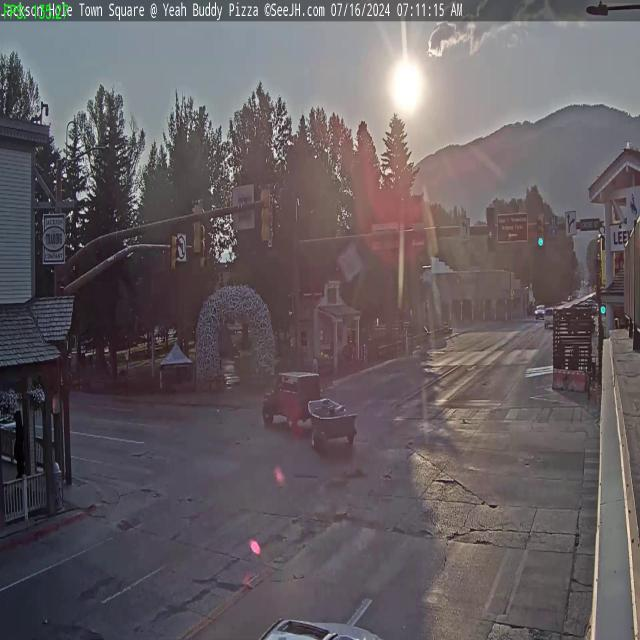suv: (263, 370, 319, 438)
traffic light: (260, 184, 274, 246), (190, 200, 204, 256), (169, 234, 180, 276), (486, 206, 496, 250), (536, 214, 545, 248)
